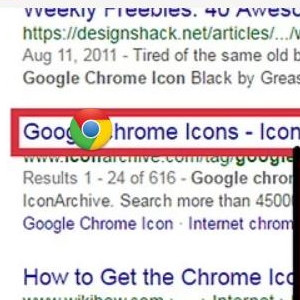chrome: (70, 108, 113, 151)
